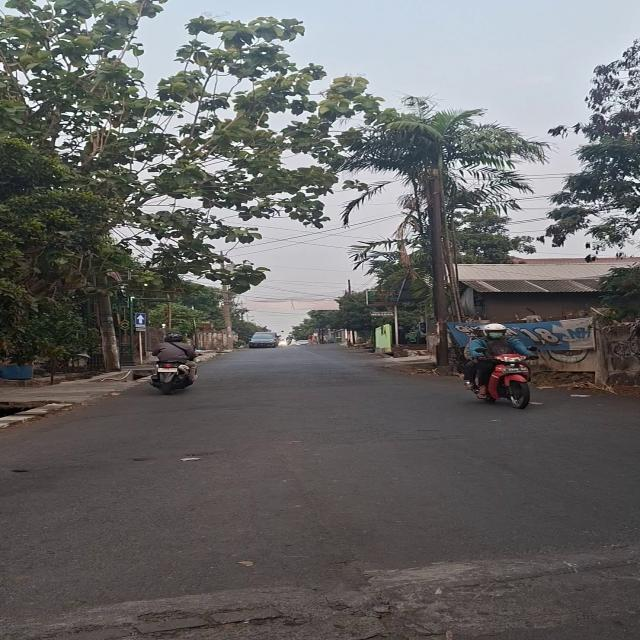WithHelmet: (462, 323, 535, 390), (149, 333, 201, 383)
